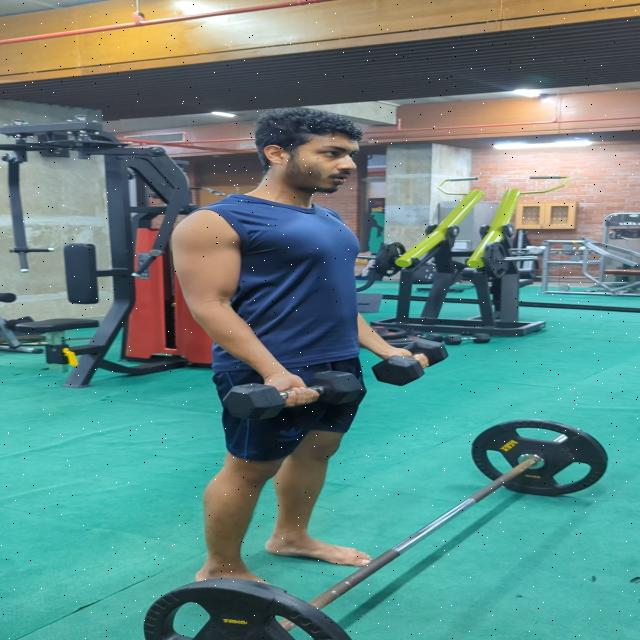Normal_DumbbellBicepCurls: (162, 106, 448, 594)
